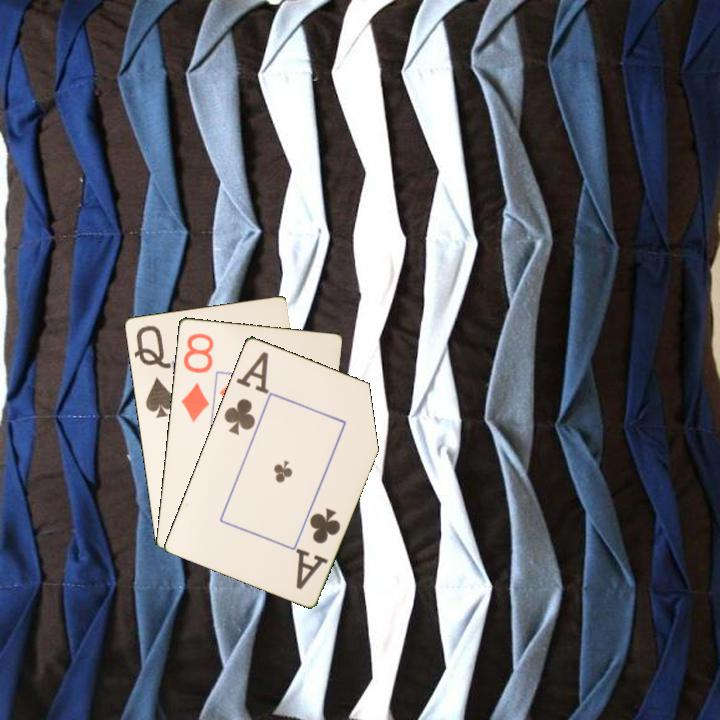8d: (177, 329, 216, 425)
Ac: (220, 347, 271, 438), (292, 504, 343, 592)
Qs: (130, 321, 177, 421)
